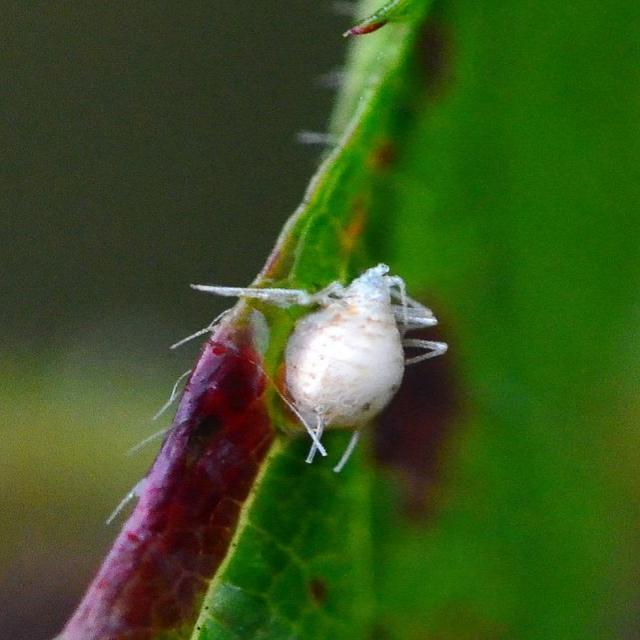aphid: (253, 258, 434, 457)
